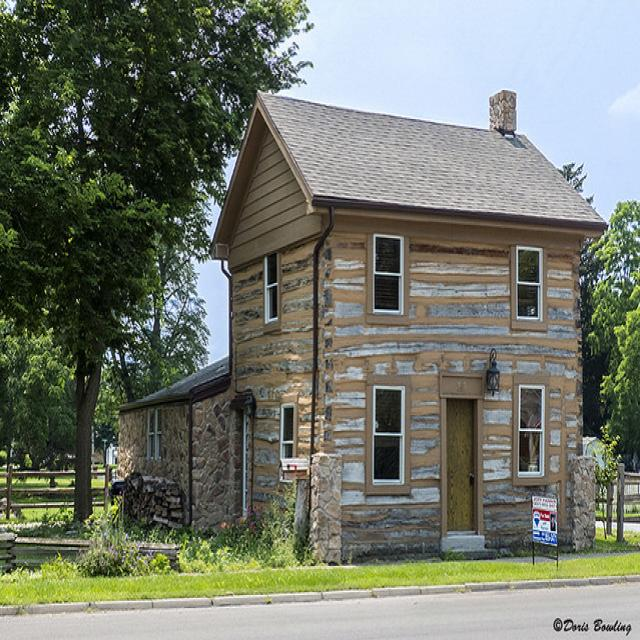building: (112, 88, 610, 561)
